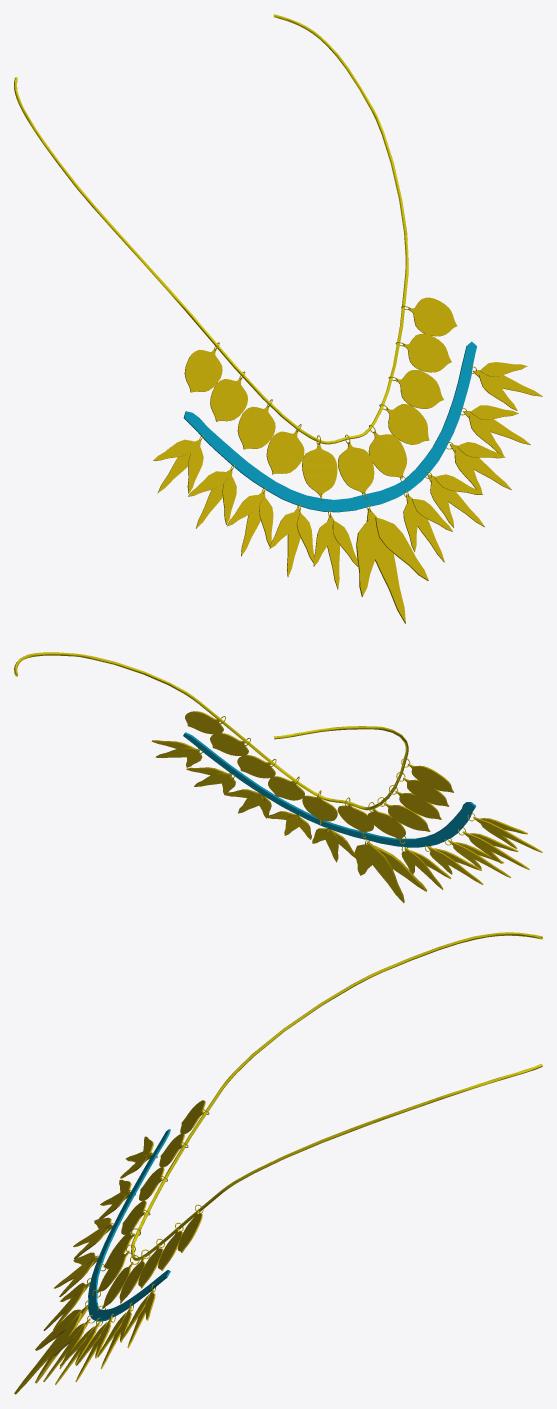
The model's file is Neclace 04.fbx.
The picture shows the model from 3 angles, top to bottom: view 1: azimuth 30°, elevation 25°; view 2: azimuth 150°, elevation 25°; view 3: azimuth 270°, elevation 25°; orthographic projection.
Visible parts, largest first — view 1: Object_6, Object_4, Object_7, Object_3; view 2: Object_6, Object_4, Object_7, Object_3, Object_2; view 3: Object_6, Object_4, Object_3, Object_7.
Boxes of the visible parts, left/top/right/bottom form: Object_6: left=153, top=362, right=542, bottom=623; Object_4: left=184, top=297, right=457, bottom=496; Object_7: left=183, top=341, right=476, bottom=512; Object_3: left=14, top=14, right=408, bottom=444; Object_6: left=151, top=740, right=542, bottom=903; Object_4: left=185, top=711, right=453, bottom=839; Object_7: left=183, top=732, right=475, bottom=847; Object_3: left=14, top=652, right=408, bottom=810; Object_2: left=218, top=716, right=410, bottom=811; Object_6: left=14, top=1136, right=155, bottom=1394; Object_4: left=97, top=1100, right=205, bottom=1308; Object_3: left=131, top=932, right=542, bottom=1260; Object_7: left=88, top=1129, right=170, bottom=1321.
Size of the model in its own units: 84.94 by 81.69 by 99.36.
